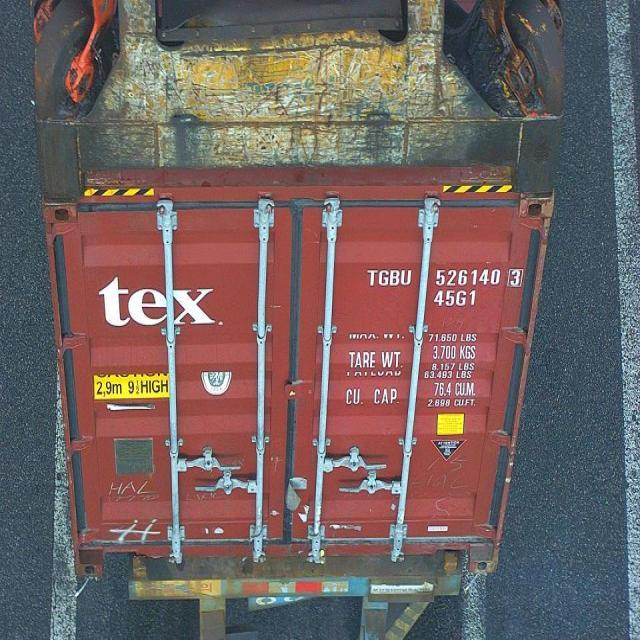ISO: (436, 289, 478, 308)
container_number: (372, 265, 526, 288)
